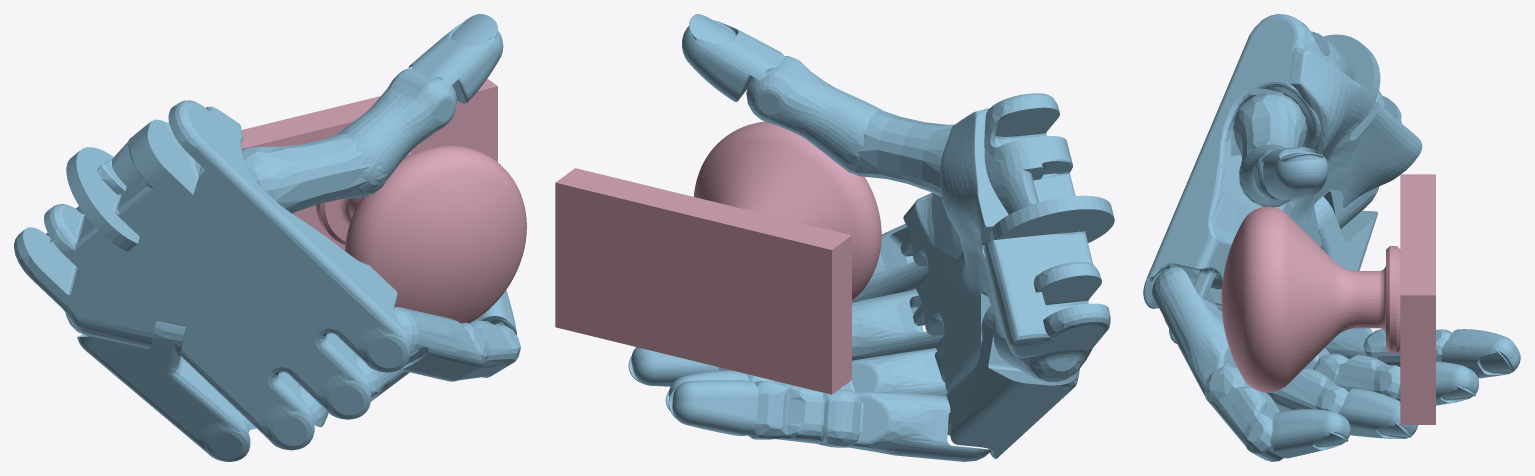
The picture shows the model from 3 angles, left to right: view 1: azimuth 30°, elevation 25°; view 2: azimuth 150°, elevation 25°; view 3: azimuth 270°, elevation 25°; orthographic projection. The views are drawn at different scales.
Parts seen in each view (by area): view 1: world; view 2: world; view 3: world.
Boxes of the visible parts, bbox=[...] form: world: bbox=[14, 14, 526, 461]; world: bbox=[555, 14, 1114, 461]; world: bbox=[1143, 14, 1520, 461].
Bounding box in the file's own units: 0.1859 × 0.1314 × 0.1319.
